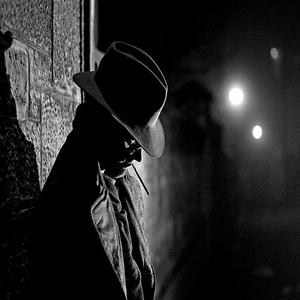cigarette: (131, 161, 151, 196)
